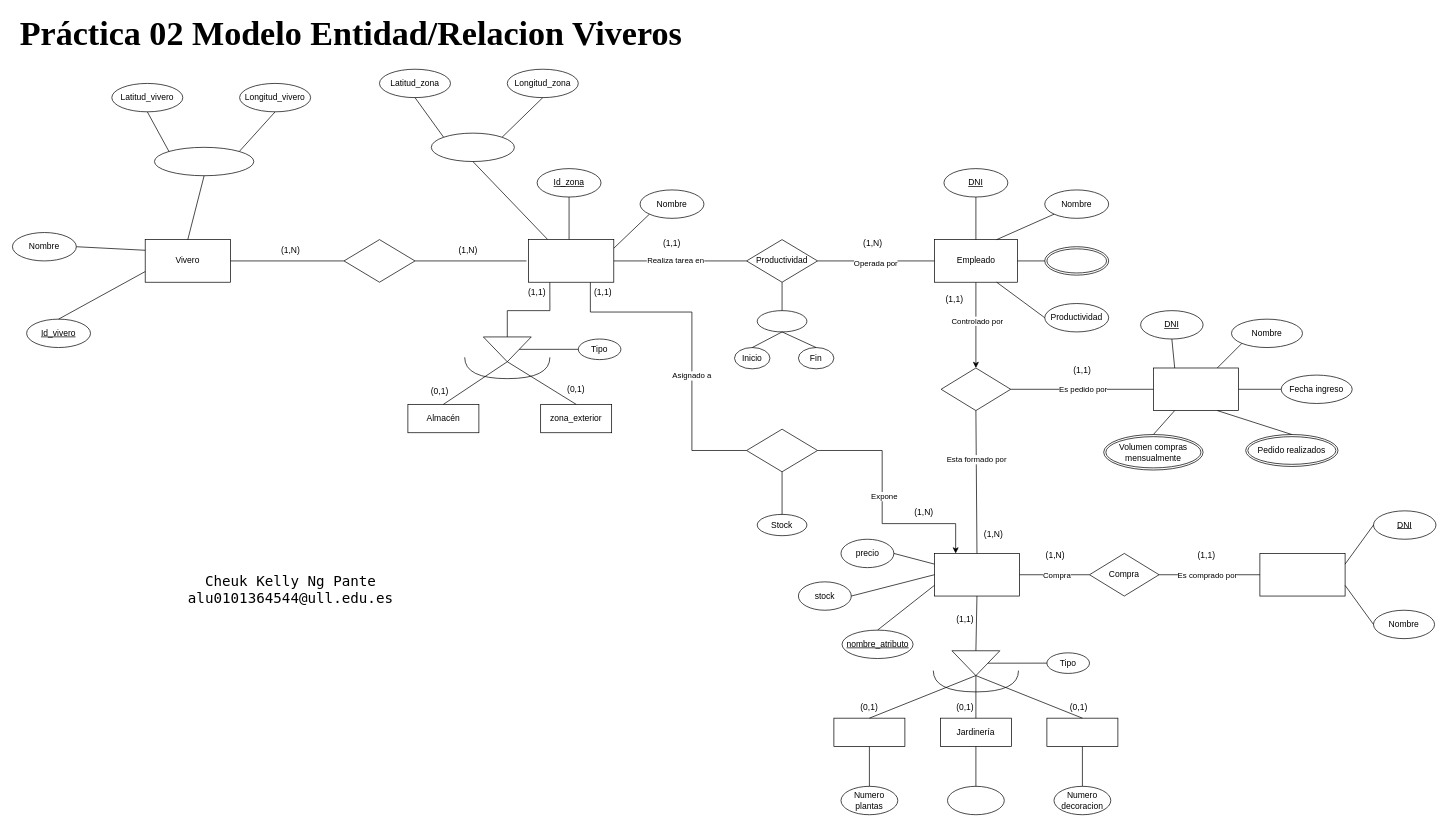
Some shapes in this 1448 by 827 pixel diagram are drawn without their labels. Here are the shapes that lost their labels. From the top down, the centre of each, then its label:
At (204,161): "Coordenadas_vivero".
At (472,147): "Coordenadas_zona".
At (379,260): "Asigna".
At (571,260): "Zona".
At (1076,260): "Tareas".
At (782,321): "Época".
At (975,389): "Pedido".
At (1196,389): "Cliente Tajinaste Plus".
At (782,450): "Posee".
At (977,574): "Producto".
At (1302,574): "Cliente".
At (869,732): "Plantas".
At (1082,732): "Decoración".
At (975,800): "Numero macetas".
